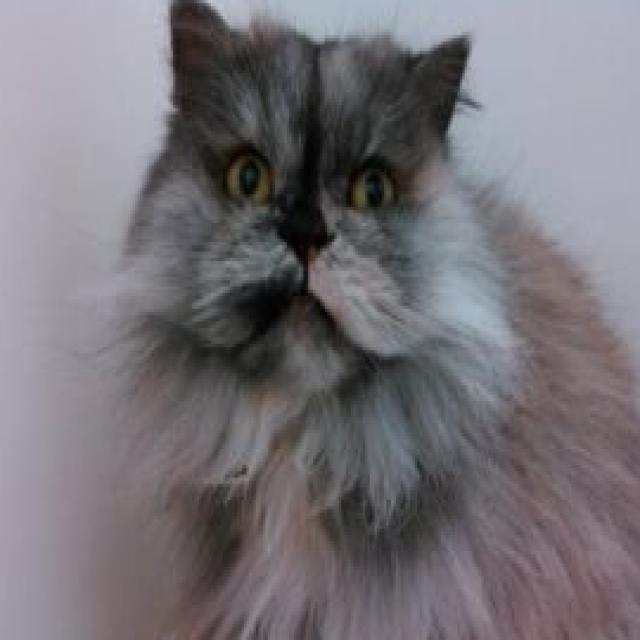Persian: (106, 0, 640, 640)
